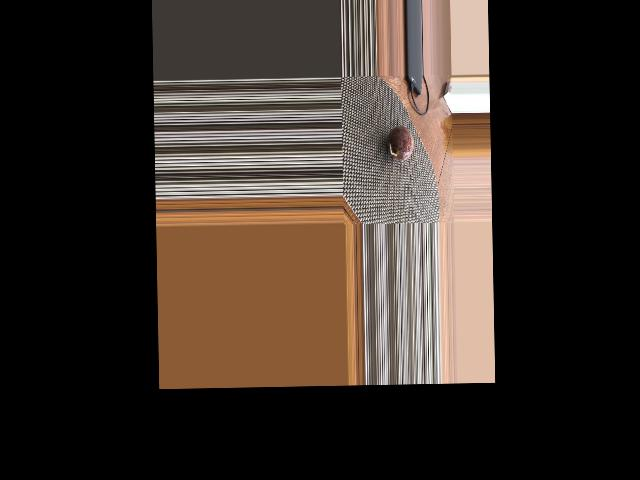beet: (386, 125, 413, 160)
